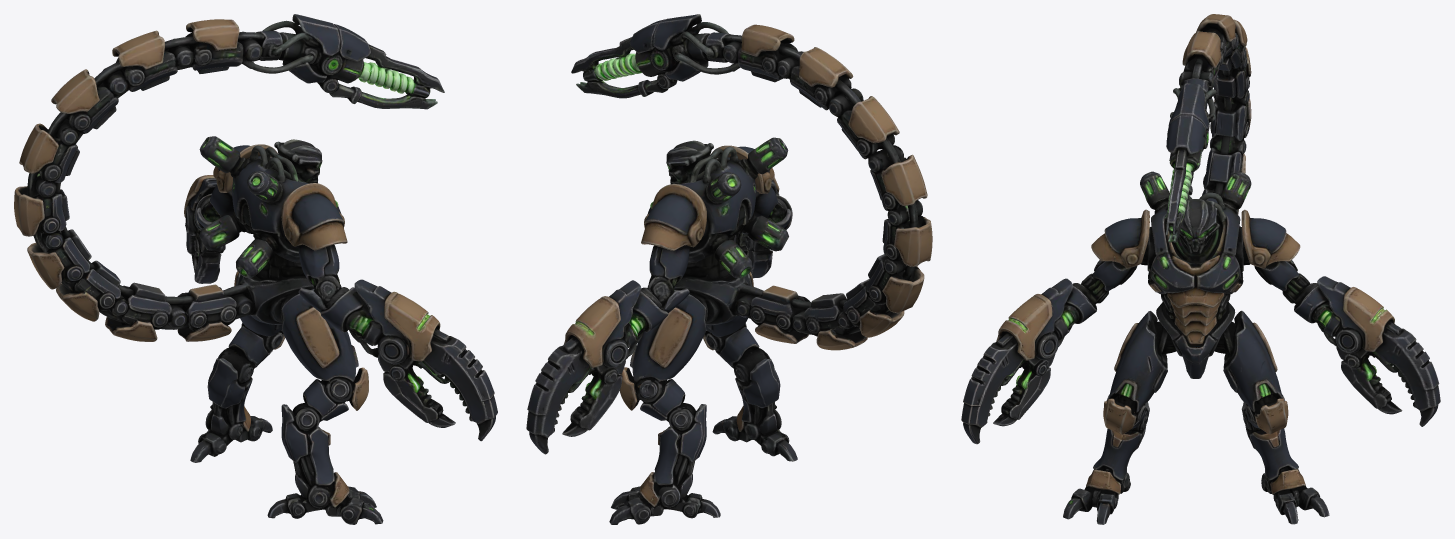
File: e17c2621-00d0-4110-bd7f-5fdc38771e94-model_url.glb
3 views of the same model, side by side, from view 1: azimuth 30°, elevation 25°; view 2: azimuth 150°, elevation 25°; view 3: azimuth 270°, elevation 25° (orthographic). The views are drawn at different scales.
Visible parts, largest first — view 1: tripo_node_e17c2621-00d0-4110-bd7f-5fdc38771e94; view 2: tripo_node_e17c2621-00d0-4110-bd7f-5fdc38771e94; view 3: tripo_node_e17c2621-00d0-4110-bd7f-5fdc38771e94.
Part boxes in pixels (x1=…): tripo_node_e17c2621-00d0-4110-bd7f-5fdc38771e94: x1=14, y1=14, x2=497, y2=524; tripo_node_e17c2621-00d0-4110-bd7f-5fdc38771e94: x1=526, y1=14, x2=932, y2=524; tripo_node_e17c2621-00d0-4110-bd7f-5fdc38771e94: x1=961, y1=14, x2=1440, y2=524.
Bounding box in the file's own units: 0.8718 × 1 × 0.9929.
Materials: 1 (1 with a texture image).
